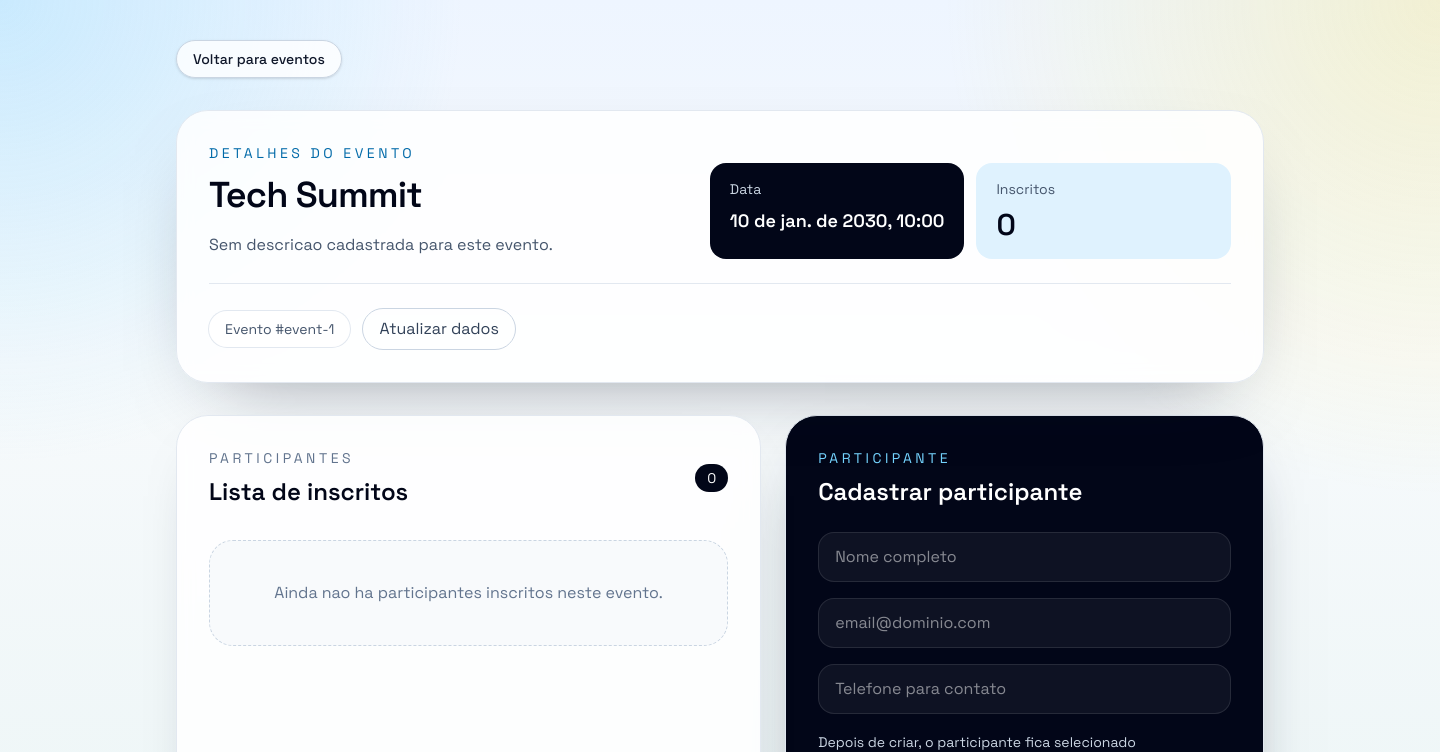
Test: EventDetailPage › shows validation error for invalid email in participant form
expect the heading "Tech Summit" is shown: met, box [209,172,422,218]
Type "Ana" into the field with placeholder "Nome completo" at coordinates (1025, 557), box [818,532,1231,582]
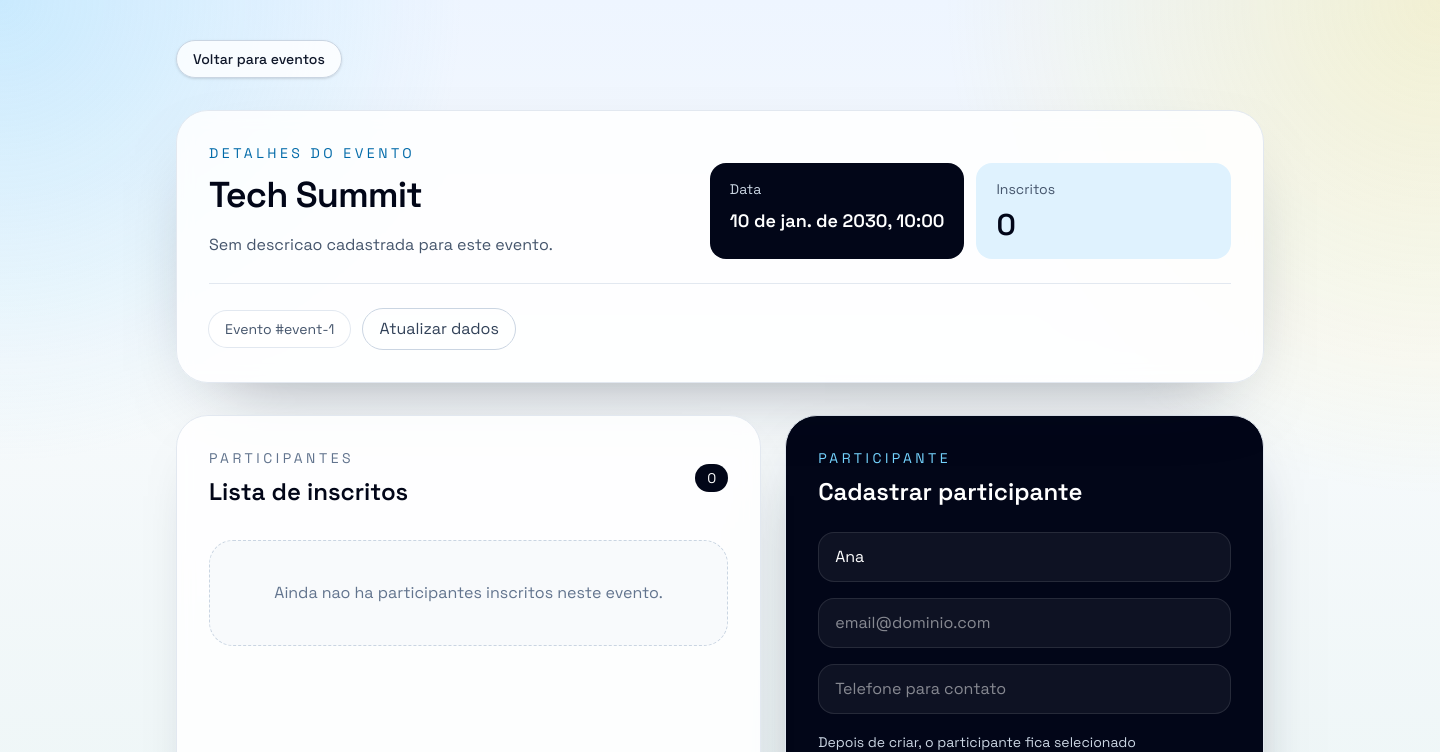
Type "invalid-email" into the field with placeholder "email@dominio.com" at coordinates (1025, 623), box [818,598,1231,648]
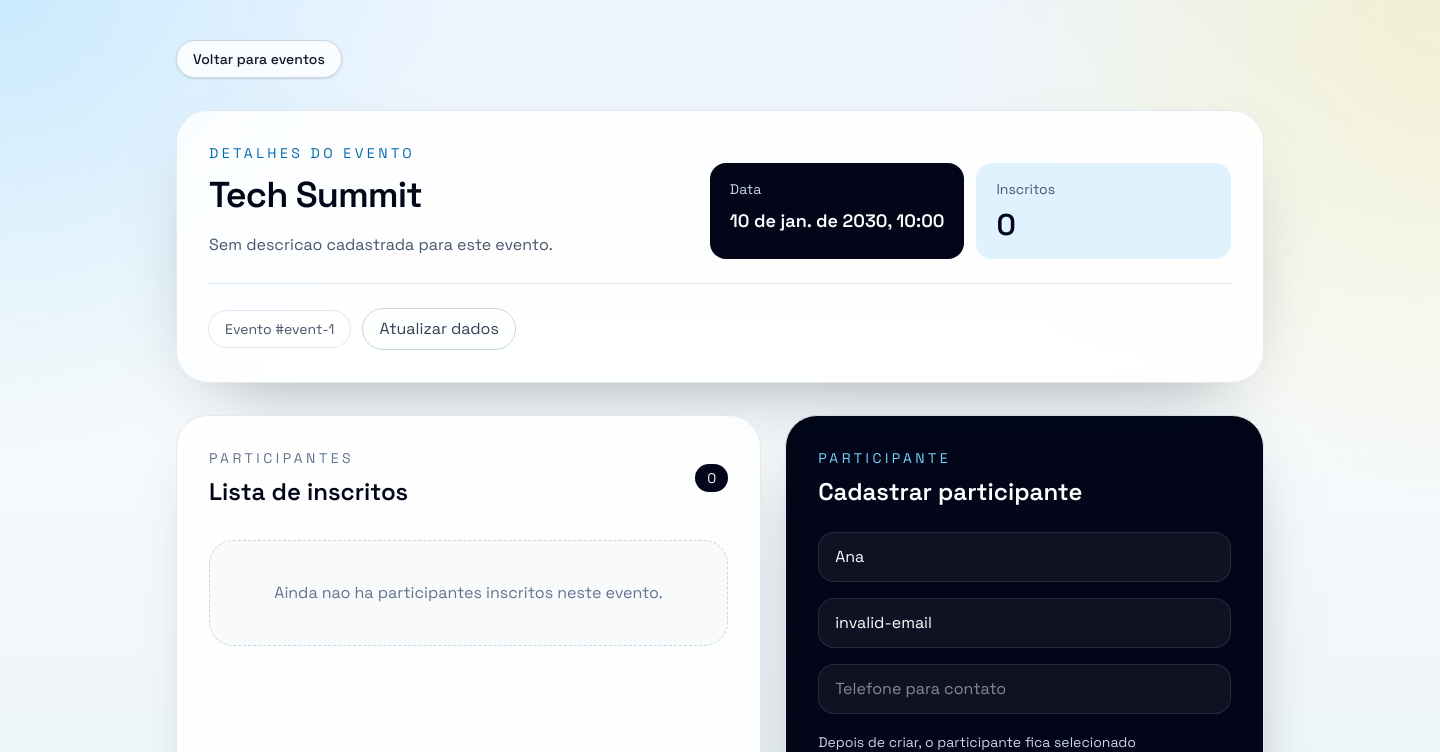
Type "123456" into the field with placeholder "Telefone para contato" at coordinates (1025, 689), box [818,664,1231,714]
(page scrolled)
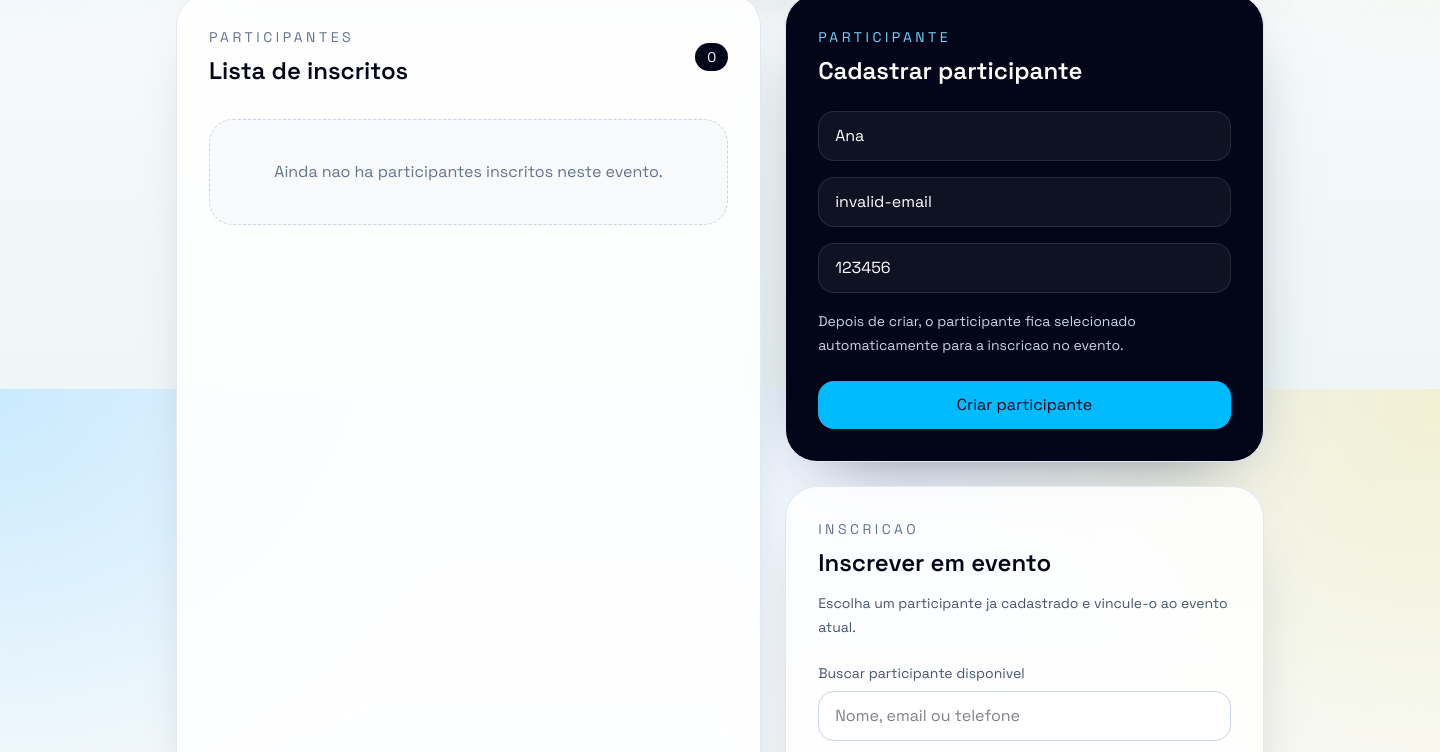
Submit the form from the button "Criar participante", box [818,381,1231,429]
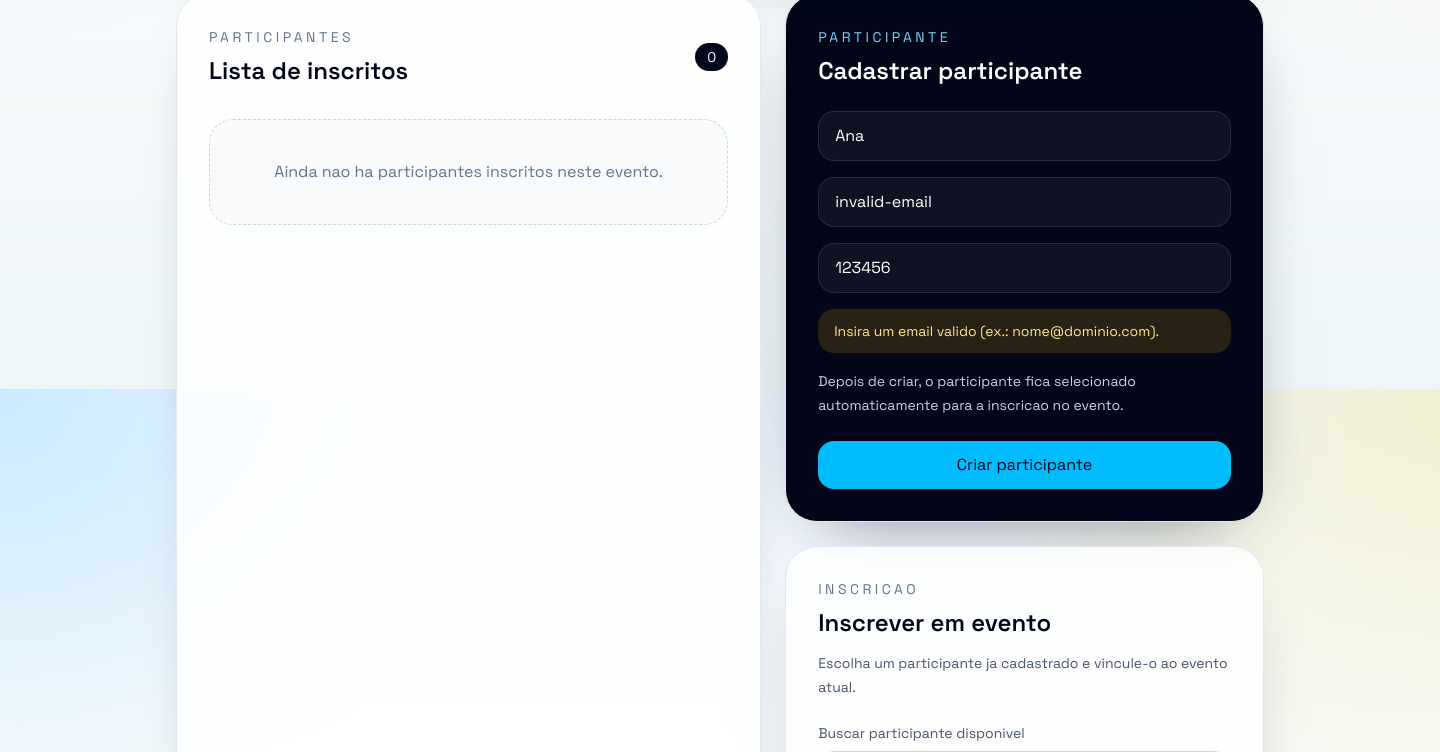
expect the text "Insira um email valido (ex.: nome@dominio.com)." is shown: met, box [818,309,1231,353]
